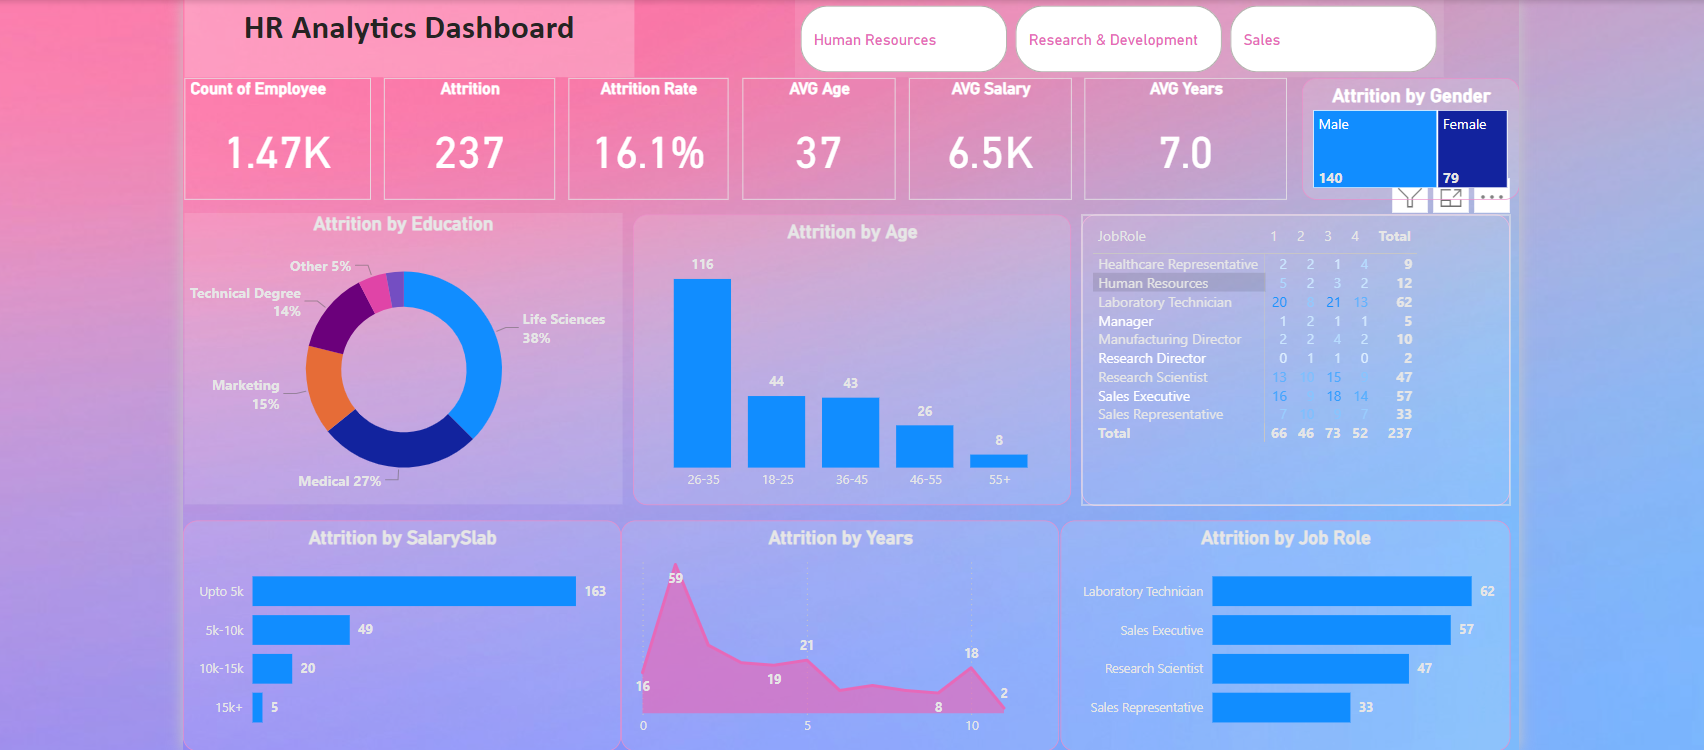

What the dashboard file says about the page in this screenshot:
{"tool":"powerbi","page":{"name":"Page 1","canvas":[1280,720],"ordinal":0},"visuals":[{"type":"cardVisual","title":"Count of Employee","fields":{"Data":["CountNonNull(HR_Analytics.EmpID)"]},"box":[1.6,74.2,178.4,116.8],"z":0},{"type":"cardVisual","title":"Attrition","fields":{"Data":["Sum(HR_Analytics.AttritionCount)"]},"box":[192.6,74.2,164.2,116.8],"z":1000},{"type":"cardVisual","title":"Attrition Rate","fields":{"Data":["HR_Analytics.AttritionRate"]},"box":[369.5,74.2,153.2,116.8],"z":2000},{"type":"cardVisual","title":"AVG Age","fields":{"Data":["Avg(HR_Analytics.Age)"]},"box":[536.8,74.2,146.8,116.8],"z":3000},{"type":"cardVisual","title":"AVG Salary","fields":{"Data":["Avg(HR_Analytics.MonthlyIncome)"]},"box":[696.3,74.2,156.3,116.8],"z":4000},{"type":"cardVisual","title":"AVG Years","fields":{"Data":["Avg(HR_Analytics.YearsAtCompany)"]},"box":[863.7,74.2,194.2,116.8],"z":5000},{"type":"donutChart","title":"Attrition by Education","fields":{"Category":["HR_Analytics.EducationField"],"Y":["Sum(HR_Analytics.AttritionCount)"]},"box":[2.1,204.7,420,279.5],"z":6000},{"type":"clusteredColumnChart","title":"Attrition by Age","fields":{"Category":["HR_Analytics.AgeGroup"],"Y":["Sum(HR_Analytics.AttritionCount)"]},"box":[432.1,205.4,419.9,279],"z":7000},{"type":"pivotTable","fields":{"Rows":["HR_Analytics.JobRole"],"Columns":["HR_Analytics.JobSatisfaction"],"Values":["Sum(HR_Analytics.AttritionCount)"]},"box":[862.1,205.3,410.5,279.5],"z":8000},{"type":"barChart","title":"Attrition by SalarySlab","fields":{"Category":["HR_Analytics.SalarySlab"],"Y":["Sum(HR_Analytics.AttritionCount)"]},"box":[0,499,420,221.1],"z":9000},{"type":"barChart","title":"Attrition by Job Role","fields":{"Y":["Sum(HR_Analytics.AttritionCount)"],"Category":["HR_Analytics.JobRole"]},"box":[841.6,499,431.1,221.1],"z":10000},{"type":"areaChart","title":"Attrition by Years","fields":{"Category":["HR_Analytics.YearsAtCompany"],"Y":["Sum(HR_Analytics.AttritionCount)"]},"box":[420,499,420,221.1],"z":11000},{"type":"treemap","title":"Attrition by Gender","fields":{"Group":["HR_Analytics.Gender"],"Values":["Sum(HR_Analytics.AttritionCount)"]},"box":[1072.1,74.2,208.4,116.8],"z":12000},{"type":"advancedSlicerVisual","fields":{"Values":["HR_Analytics.Department"]},"box":[587.4,0,622.1,74.2],"z":13000},{"type":"textbox","box":[1.6,0,431.1,74.2],"z":14000}]}

Visuals, with their boxes on the page's 1280x720 design canvas (x1, y1, x2, y2). These are canvas units, not pixel positions in the 1704x750 screenshot, which may show the page scaled, cropped or inside an application window:
"Count of Employee" cardVisual: (x1=2, y1=74, x2=180, y2=191)
"Attrition" cardVisual: (x1=193, y1=74, x2=357, y2=191)
"Attrition Rate" cardVisual: (x1=370, y1=74, x2=523, y2=191)
"AVG Age" cardVisual: (x1=537, y1=74, x2=684, y2=191)
"AVG Salary" cardVisual: (x1=696, y1=74, x2=853, y2=191)
"AVG Years" cardVisual: (x1=864, y1=74, x2=1058, y2=191)
"Attrition by Education" donutChart: (x1=2, y1=205, x2=422, y2=484)
"Attrition by Age" clusteredColumnChart: (x1=432, y1=205, x2=852, y2=484)
pivotTable - HR_Analytics.JobRole x HR_Analytics.JobSatisfaction: (x1=862, y1=205, x2=1273, y2=485)
"Attrition by SalarySlab" barChart: (x1=0, y1=499, x2=420, y2=720)
"Attrition by Job Role" barChart: (x1=842, y1=499, x2=1273, y2=720)
"Attrition by Years" areaChart: (x1=420, y1=499, x2=840, y2=720)
"Attrition by Gender" treemap: (x1=1072, y1=74, x2=1280, y2=191)
advancedSlicerVisual - HR_Analytics.Department: (x1=587, y1=0, x2=1210, y2=74)
textbox: (x1=2, y1=0, x2=433, y2=74)
